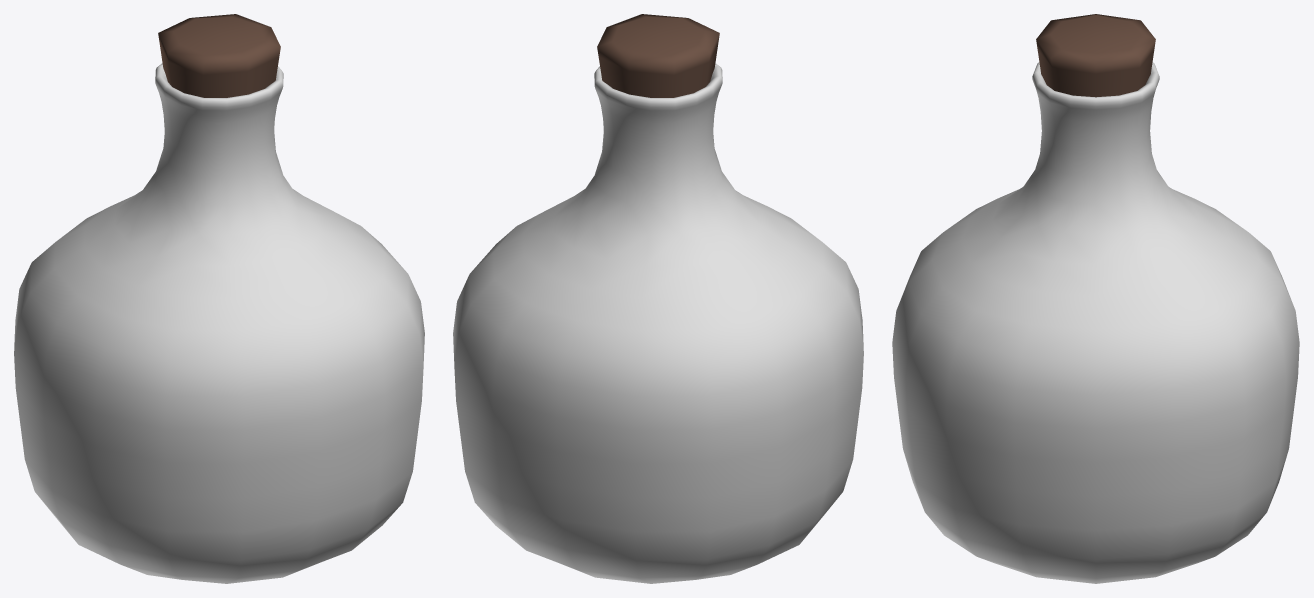
File: Potion2_Empty.gltf
The picture shows the model from 3 angles, left to right: view 1: azimuth 30°, elevation 25°; view 2: azimuth 150°, elevation 25°; view 3: azimuth 270°, elevation 25°; orthographic projection.
Parts seen in each view (by area): view 1: Potion2_Empty; view 2: Potion2_Empty; view 3: Potion2_Empty.
Boxes of the visible parts, bbox=[...] form: Potion2_Empty: bbox=[14, 14, 424, 583]; Potion2_Empty: bbox=[453, 14, 863, 583]; Potion2_Empty: bbox=[892, 14, 1299, 583].
Size of the model in its own units: 0.8768 by 1.22 by 0.8768.
